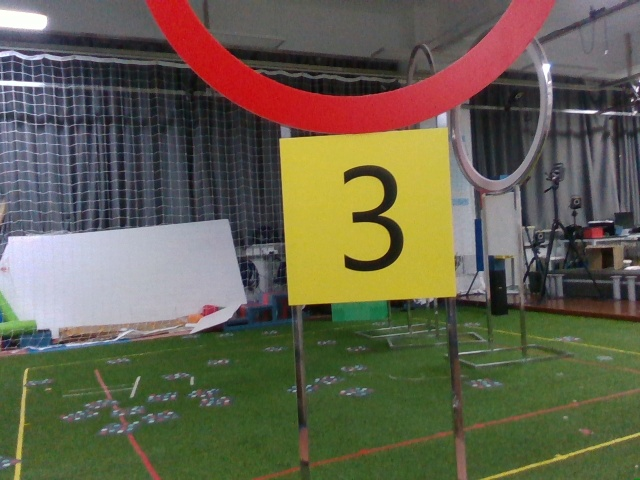target: (286, 141, 446, 294)
